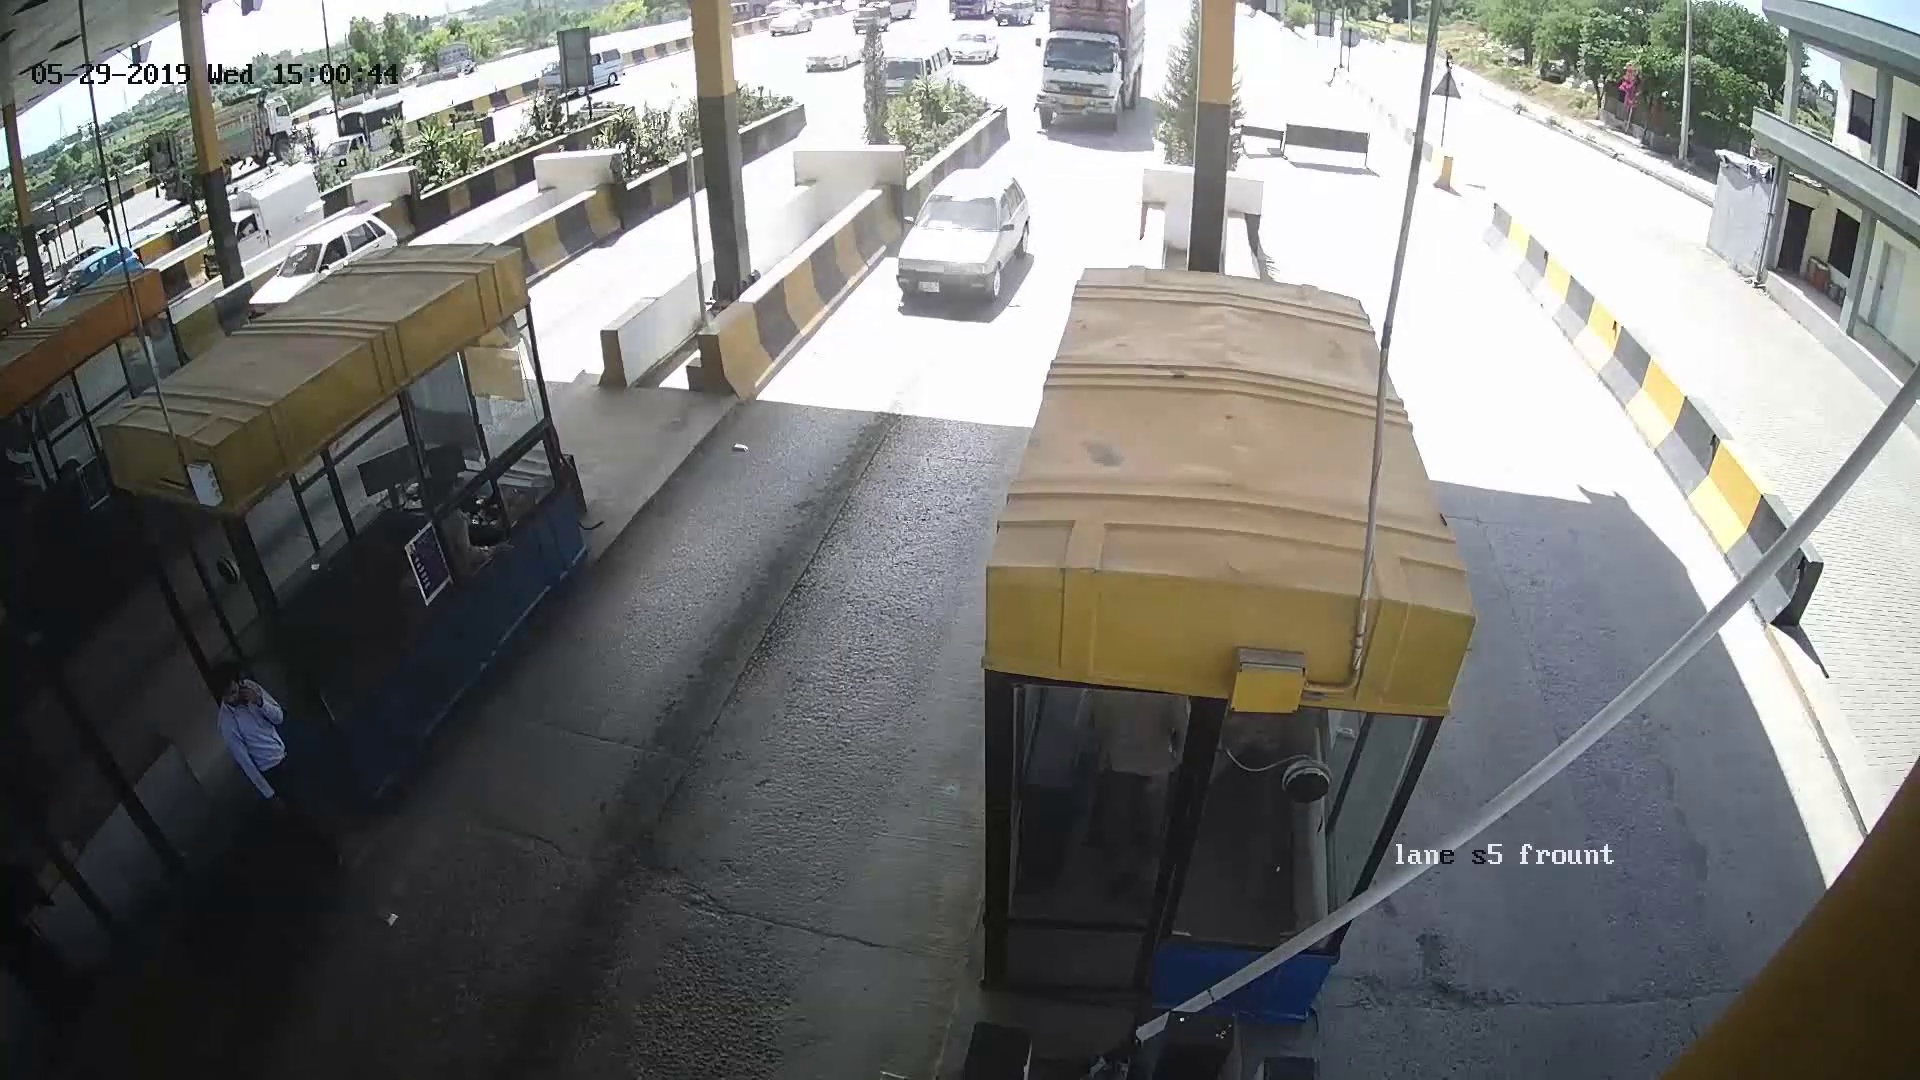car: (887, 190, 1067, 324)
truck: (1025, 18, 1149, 138)
